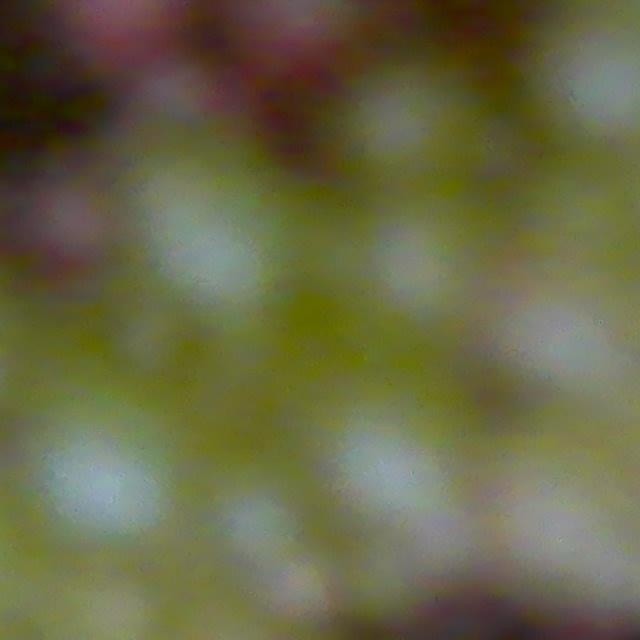SeaGrape: (131, 158, 322, 342), (27, 363, 205, 549), (288, 360, 476, 529), (537, 14, 640, 168), (356, 81, 493, 188), (266, 0, 361, 63)
